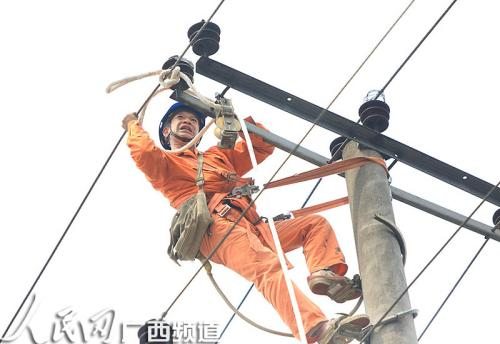boots: (306, 313, 370, 344), (307, 268, 362, 302)
gloves: (306, 313, 370, 343), (307, 268, 362, 302), (121, 112, 139, 131)
hard-hat: (158, 99, 206, 149)
person: (121, 98, 370, 344)
ppe-suit: (122, 108, 356, 341)
